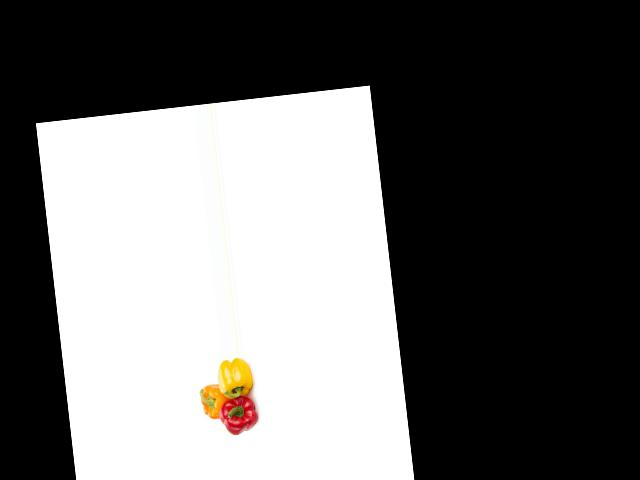bell_pepper: (214, 356, 257, 397)
